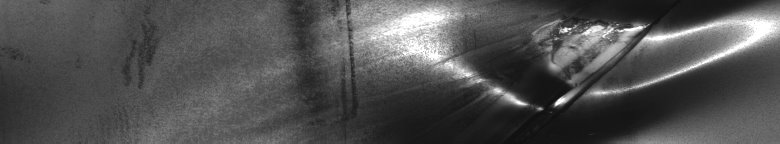ke: (340, 4, 763, 116)
